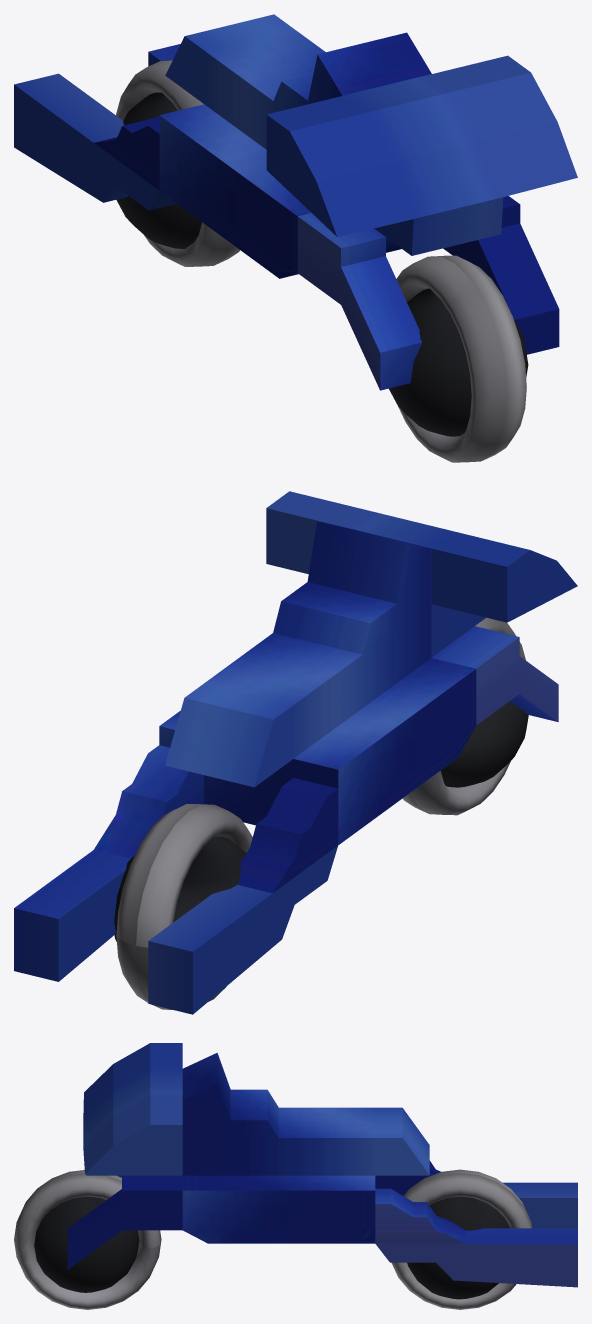
File: Bike3.fbx
The picture shows the model from 3 angles, top to bottom: view 1: azimuth 30°, elevation 25°; view 2: azimuth 150°, elevation 25°; view 3: azimuth 270°, elevation 25°; orthographic projection. The views are drawn at different scales.
Visible parts, largest first — view 1: Box007, Torus001, Sphere002, Torus002, Sphere001; view 2: Box007, Torus002, Sphere002, Sphere001, Torus001; view 3: Box007, Torus001, Sphere002, Torus002, Sphere001.
Part boxes in pixels (x1=…): Box007: x1=14, y1=14, x2=577, y2=390; Torus001: x1=396, y1=255, x2=526, y2=462; Sphere002: x1=389, y1=288, x2=528, y2=436; Torus002: x1=116, y1=60, x2=239, y2=266; Sphere001: x1=116, y1=92, x2=201, y2=248; Box007: x1=14, y1=491, x2=577, y2=1014; Torus002: x1=116, y1=804, x2=252, y2=1009; Sphere002: x1=440, y1=702, x2=528, y2=787; Sphere001: x1=114, y1=836, x2=246, y2=941; Torus001: x1=403, y1=617, x2=525, y2=815; Box007: x1=67, y1=1043, x2=577, y2=1287; Torus001: x1=14, y1=1170, x2=161, y2=1309; Sphere002: x1=34, y1=1196, x2=139, y2=1292; Torus002: x1=391, y1=1169, x2=532, y2=1309; Sphere001: x1=407, y1=1196, x2=509, y2=1299.
Size of the model in its own units: 46.98 by 136 by 63.85.
3 materials, 3 textured.
